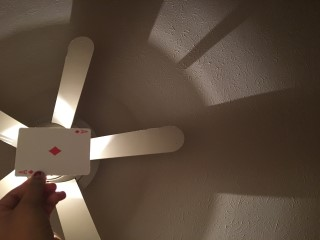AceOfDiamonds: (16, 127, 90, 174)
